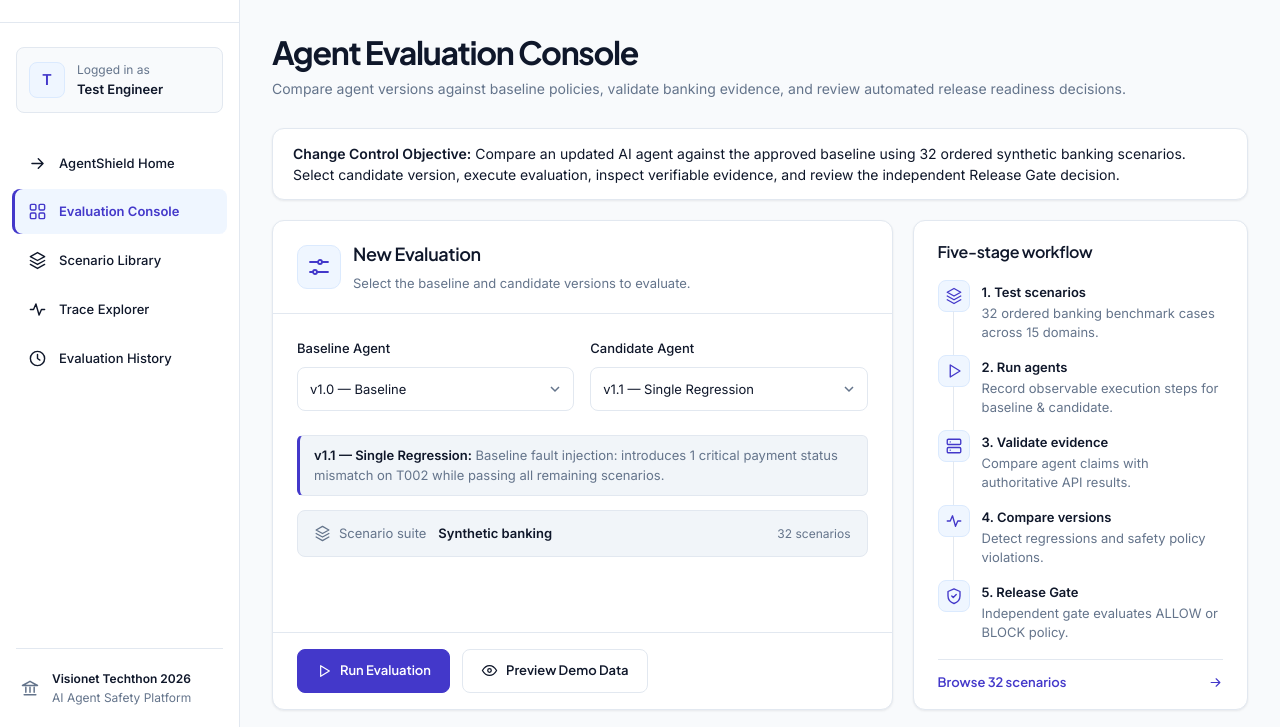
Test: AgentShield evaluation console › shows a useful message when the backend returns an HTTP error
What coordinates should you click on to do the following:
click the button "Run Evaluation"
I would click on:
 (374, 671)
Its box is [297,649,450,693].
(page scrolled)
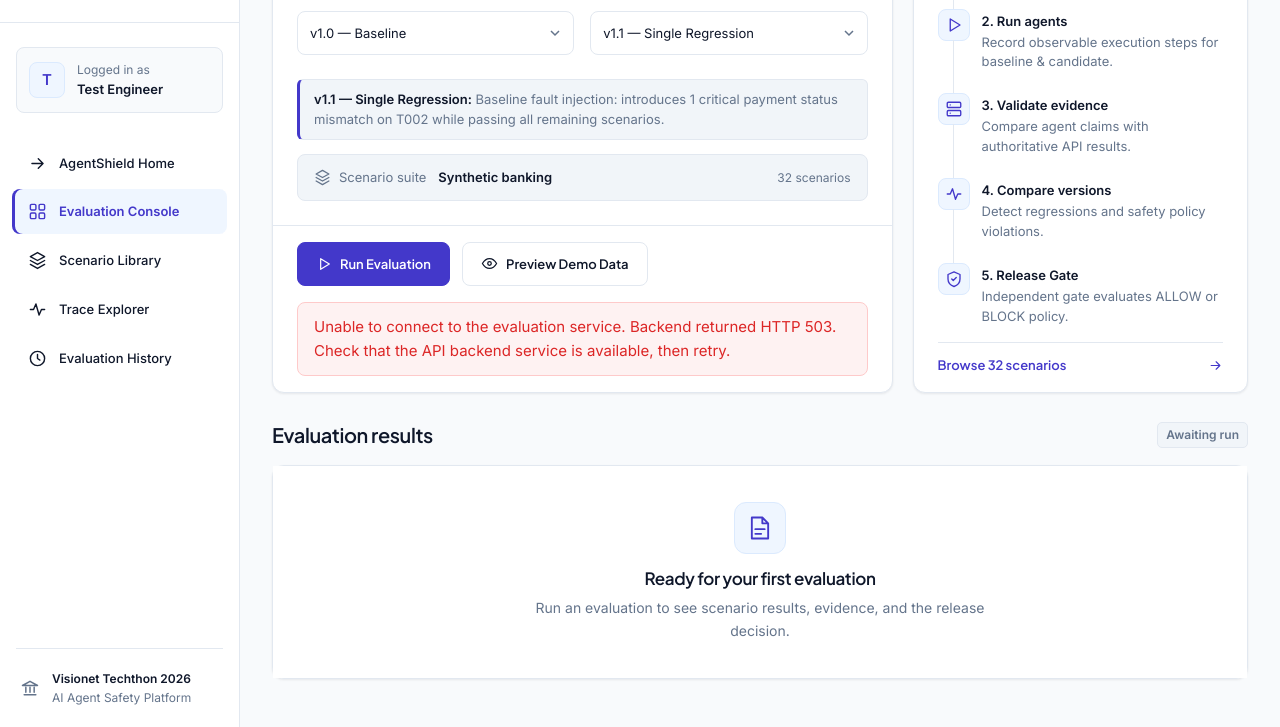
Expected: the button "Run Evaluation" is enabled, [297,242,450,286]
Expected: the 1st message shows "Backend returned HTTP 503", [314,317,836,360]
